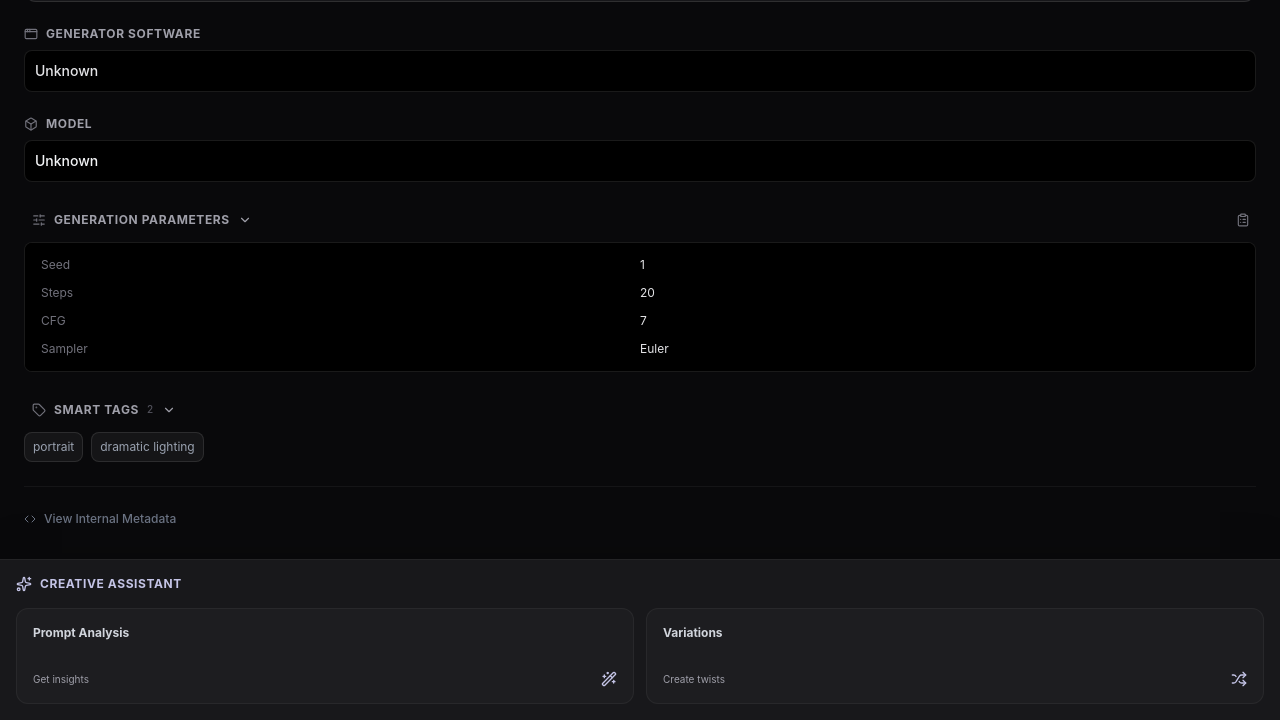
Test: MetadataInfoTab › collapses smart tags independently and keeps the tag count visible
The image size is (1280, 720).
(page scrolled)
Click the button "Smart Tags 2".
click(96, 410)  # box top-left (24, 396), bottom-right (1256, 424)
(page scrolled)
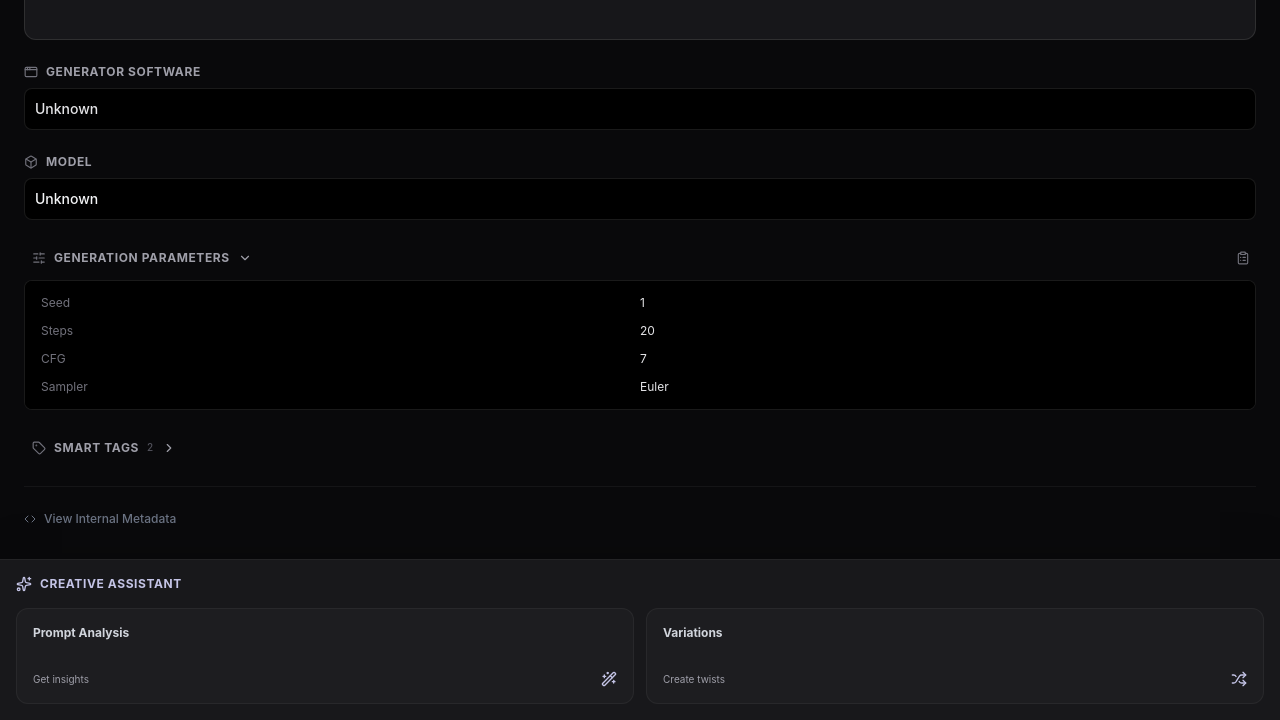
Expected: the button "portrait" is not shown
Now the button "Smart Tags 2" is collapsed, box top-left (24, 434), bottom-right (1256, 462)
